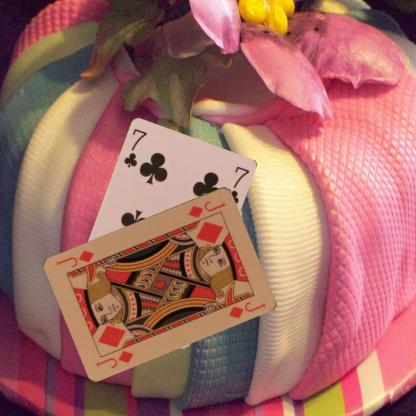7c: (122, 126, 148, 169)
Jd: (94, 342, 135, 369), (186, 198, 227, 219)
